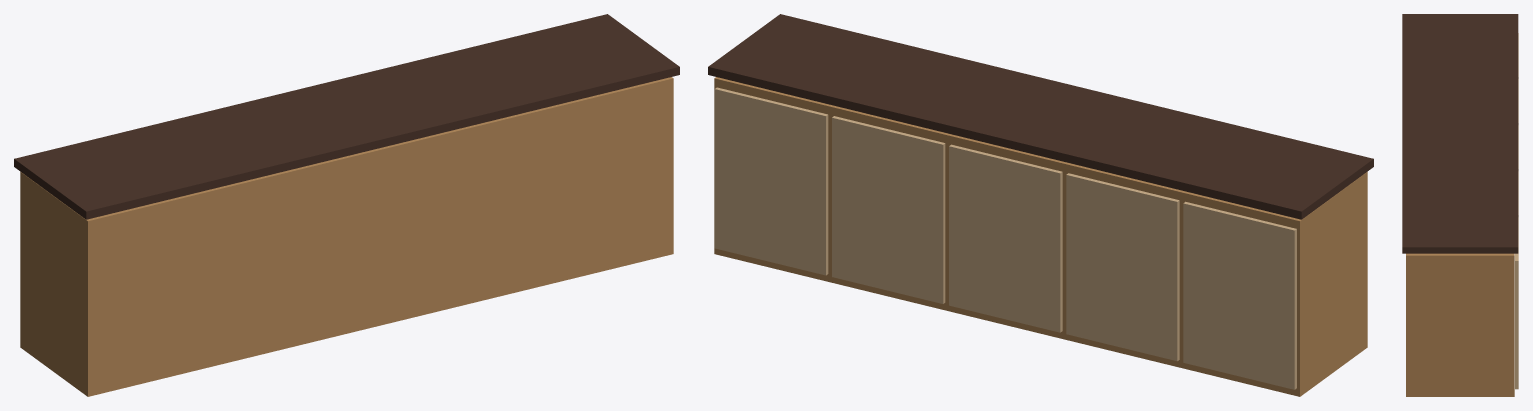
3 views of the same model, side by side, from view 1: azimuth 30°, elevation 25°; view 2: azimuth 150°, elevation 25°; view 3: azimuth 270°, elevation 25° (orthographic). The views are drawn at different scales.
Parts seen in each view (by area): view 1: mueble_lounge; view 2: mueble_lounge; view 3: mueble_lounge.
Boxes of the visible parts, x1,y1,x2,y2 form: mueble_lounge: (14,14,679,396); mueble_lounge: (708,14,1373,396); mueble_lounge: (1402,14,1518,396).
Size of the model in its own units: 3.04 by 0.642 by 0.92.
